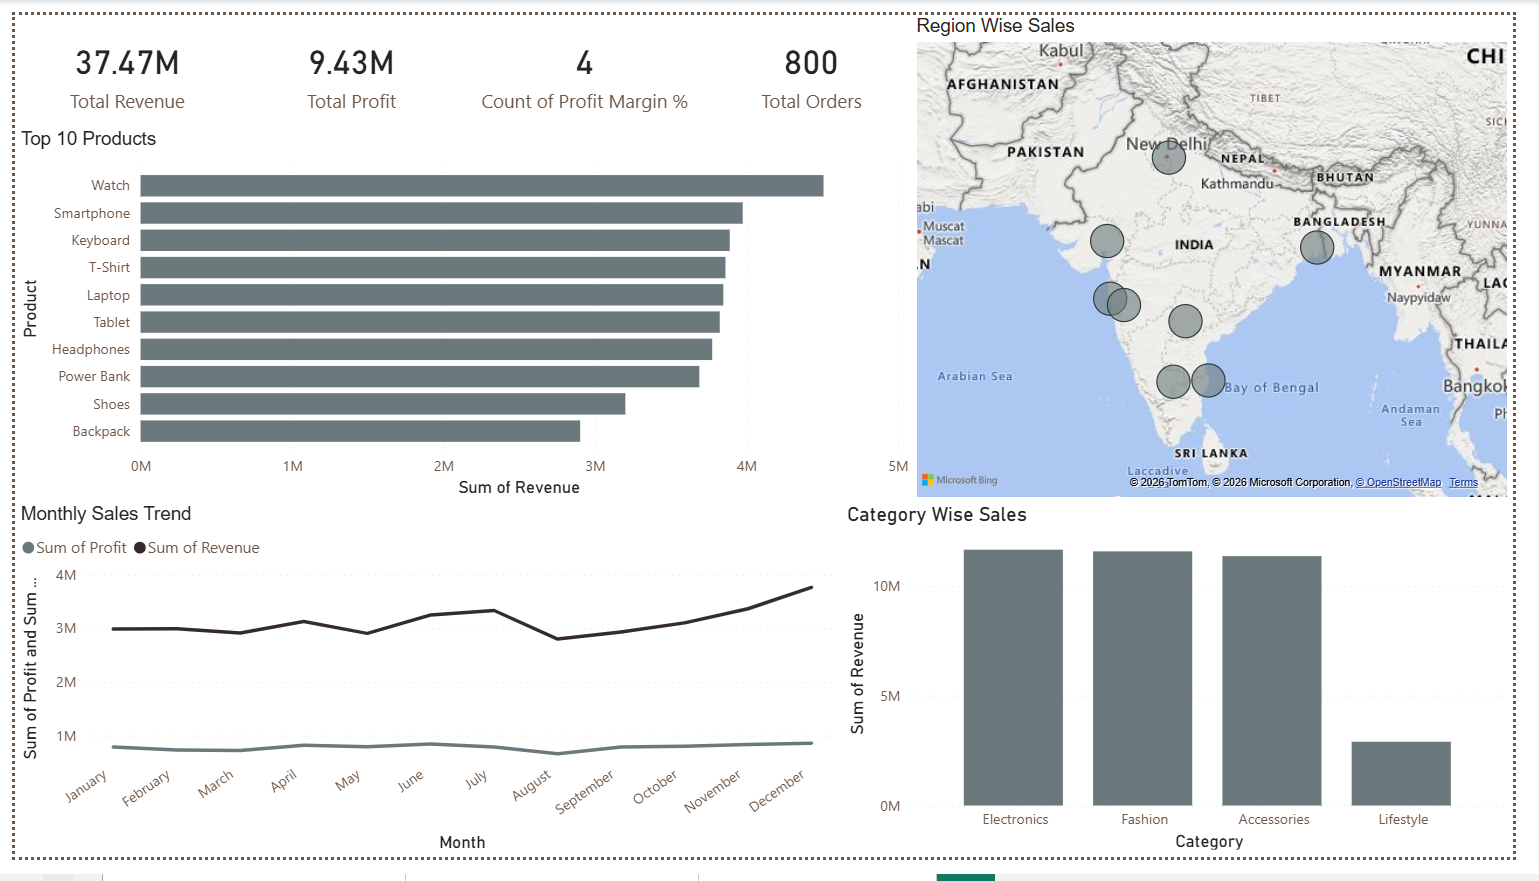

Layout of this report page (visuals, bound fields, positions):
{"tool":"powerbi","page":{"name":"Sales & Revenue Performance","canvas":[1280,720],"ordinal":0},"visuals":[{"type":"card","fields":{"Values":["output_category_performance.Total Revenue"]},"box":[0,0,191.4,97.1],"z":0},{"type":"card","fields":{"Values":["output_category_performance.Total Profit"]},"box":[190,0,195,96.7],"z":1000},{"type":"card","fields":{"Values":["CountNonNull(output_category_performance.Profit Margin %)"]},"box":[381.6,0,209,96.9],"z":2000},{"type":"card","fields":{"Values":["output_clean_dataset.Total Orders"]},"box":[590.5,0,178.7,96.9],"z":3000},{"type":"lineChart","title":"Monthly Sales Trend","fields":{"Category":["output_monthly_sales.Month.Variation.Date Hierarchy.Month"],"Y":["Sum(output_monthly_sales.Profit)","Sum(output_monthly_sales.Revenue)"]},"box":[0,416.4,707.1,302.8],"z":4000},{"type":"barChart","title":"Top 10 Products","fields":{"Category":["output_product_performance.Product"],"Y":["Sum(output_product_performance.Revenue)"]},"box":[0,96.7,768.3,320],"z":5000},{"type":"map","title":"Region Wise Sales","fields":{"Size":["CountNonNull(output_region_performance.Revenue)"],"Category":["output_city_sales.City"]},"box":[765,0,515,416.7],"z":6000},{"type":"columnChart","title":"Category Wise Sales","fields":{"Category":["output_category_performance.Category"],"Y":["Sum(output_category_performance.Revenue)"]},"box":[706.7,416.7,573.3,301.7],"z":7000}]}

Visuals, with their boxes in screenshot pixels (x1, y1, x2, y2), scaled from the page's 1280x720 canvas onto the 1539x881 screenshot:
card - output_category_performance.Total Revenue: {"x1": 0, "y1": 0, "x2": 230, "y2": 119}
card - output_category_performance.Total Profit: {"x1": 228, "y1": 0, "x2": 463, "y2": 118}
card - CountNonNull(output_category_performance.Profit Margin %): {"x1": 459, "y1": 0, "x2": 710, "y2": 119}
card - output_clean_dataset.Total Orders: {"x1": 710, "y1": 0, "x2": 925, "y2": 119}
"Monthly Sales Trend" lineChart: {"x1": 0, "y1": 510, "x2": 850, "y2": 880}
"Top 10 Products" barChart: {"x1": 0, "y1": 118, "x2": 924, "y2": 510}
"Region Wise Sales" map: {"x1": 920, "y1": 0, "x2": 1538, "y2": 510}
"Category Wise Sales" columnChart: {"x1": 850, "y1": 510, "x2": 1538, "y2": 879}
